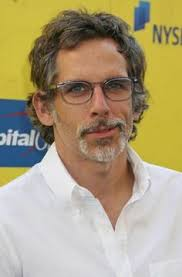Glasses: (45, 80, 144, 108)
